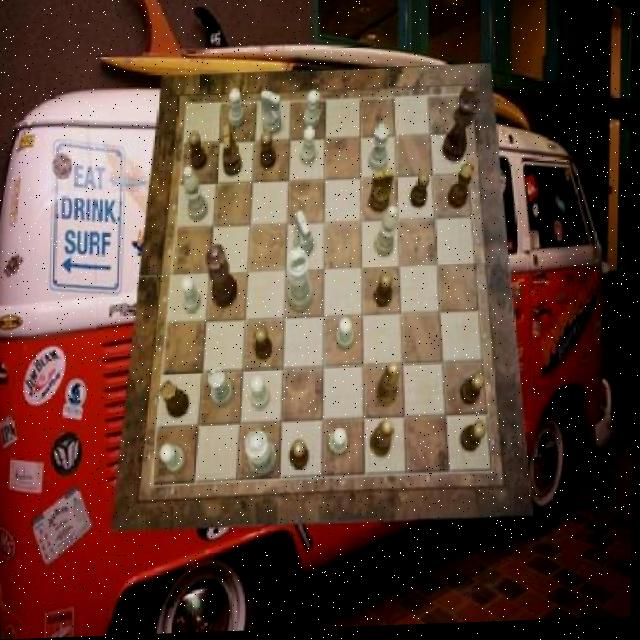bishop: (378, 365, 402, 408), (372, 422, 395, 460)
black-bishop: (442, 86, 479, 165)
black-king: (369, 170, 394, 216), (224, 127, 244, 180)
black-knight: (463, 376, 487, 410), (463, 426, 489, 457), (411, 173, 432, 210), (189, 132, 208, 171), (254, 327, 274, 362), (375, 275, 394, 310), (261, 132, 277, 172), (291, 442, 311, 471)
black-pawn: (207, 245, 240, 310)
black-queen: (448, 166, 475, 213), (160, 381, 190, 420)
black-rook: (184, 166, 209, 223), (375, 208, 399, 261)
white-bishop: (287, 248, 315, 314)
white-king: (295, 212, 316, 258), (260, 92, 281, 138)
white-knight: (182, 277, 203, 315), (162, 445, 187, 475), (252, 377, 273, 412), (304, 92, 321, 131), (301, 127, 317, 166), (229, 90, 245, 129), (338, 320, 355, 353), (330, 430, 349, 458)
white-pawn: (247, 430, 280, 479)
white-queen: (370, 127, 391, 175), (209, 370, 234, 409)
